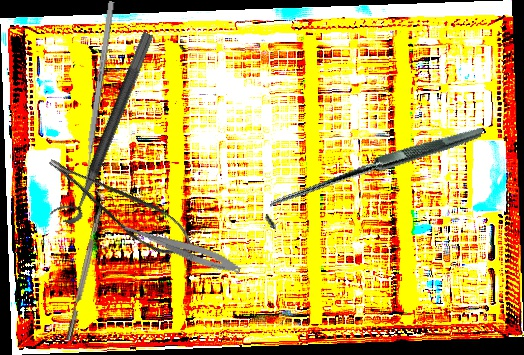Chopper: (58, 188, 109, 342)
Fixation Ring: (48, 24, 156, 228)
Hook Surgical: (262, 67, 484, 287)
Micro Scissor: (44, 133, 202, 273), (113, 218, 244, 278)
Pusher: (81, 0, 115, 191)
